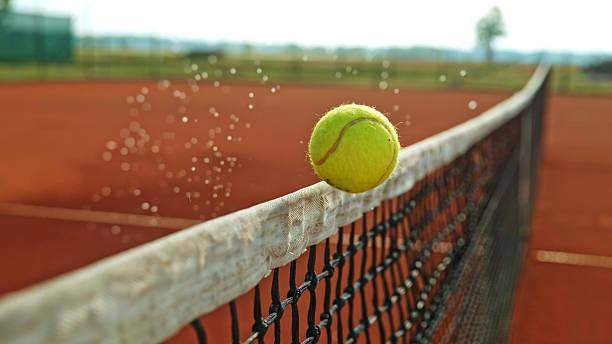ball_tennis: (310, 104, 401, 193)
